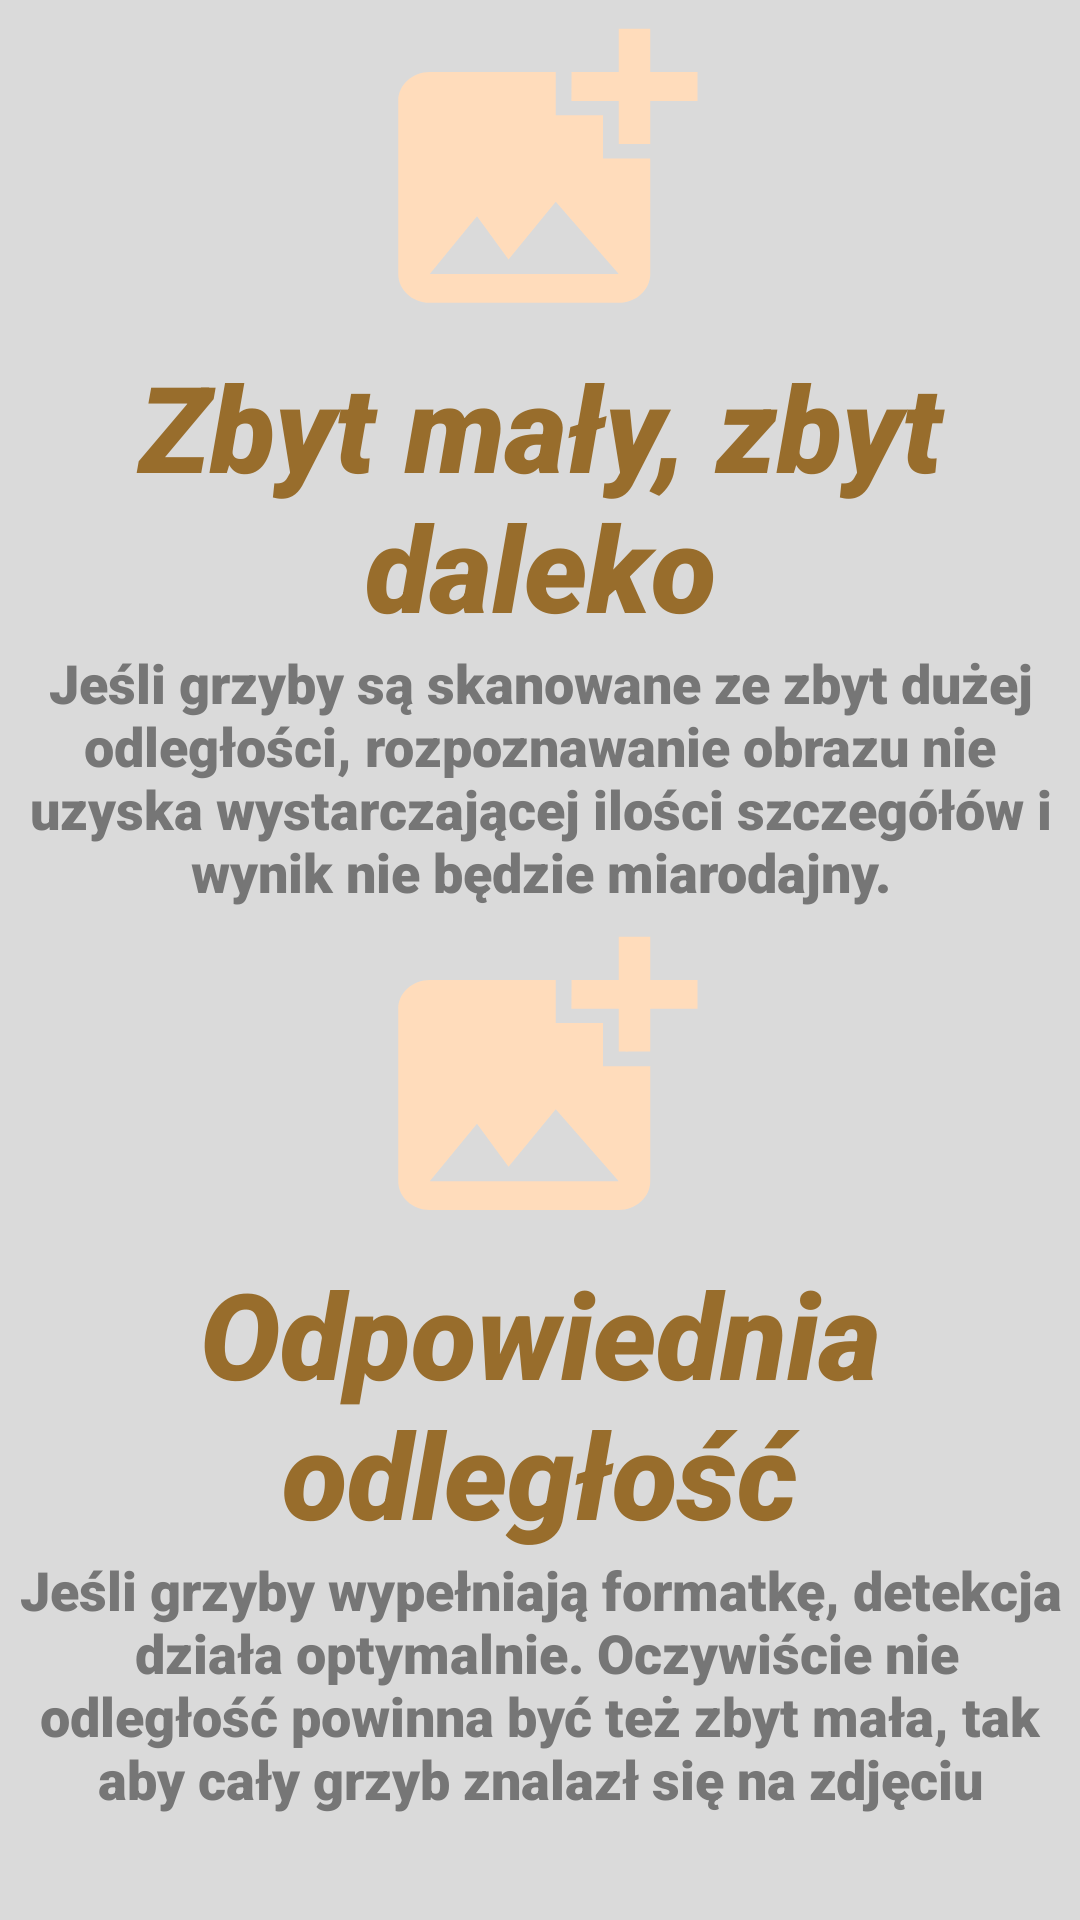

Screen size 1080px x 1920px. Icon name, then its center in pixels as point (x, y):
add photo: point (547, 166), point (547, 1073)
